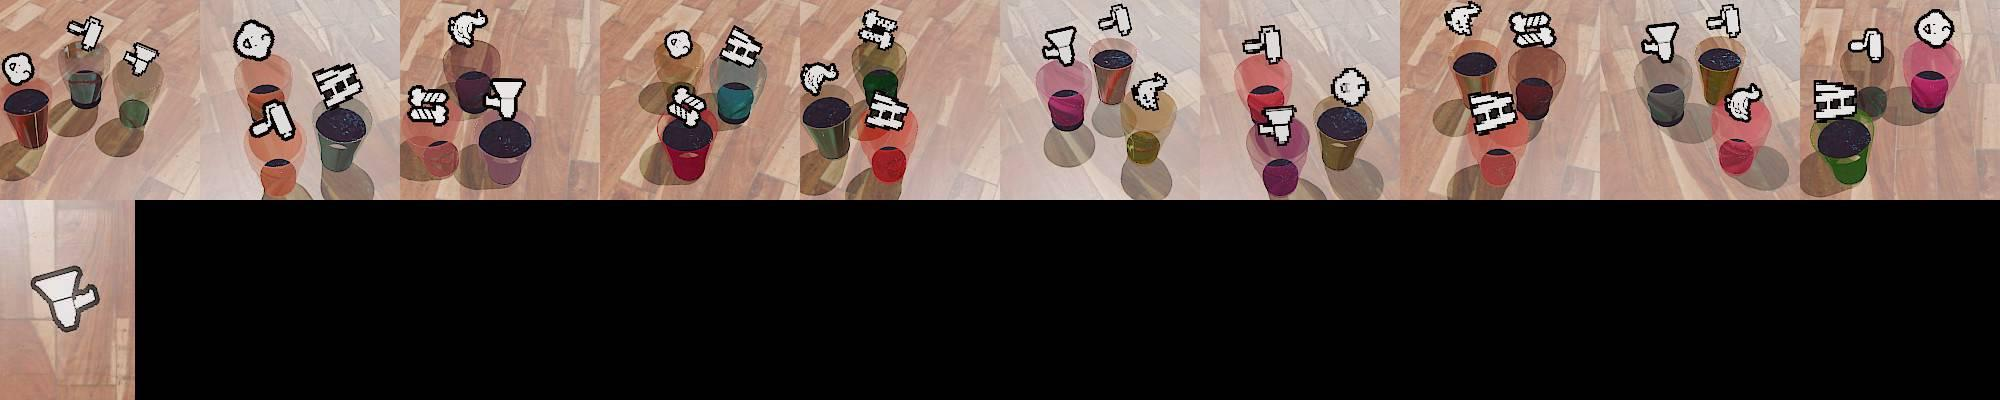icon: (29, 265, 101, 333), (311, 63, 363, 111), (1467, 89, 1519, 136), (248, 95, 297, 139), (1811, 78, 1859, 122), (719, 24, 764, 69), (1508, 10, 1557, 49), (406, 84, 451, 126), (864, 89, 910, 130), (665, 84, 708, 126), (484, 77, 526, 120), (855, 9, 899, 50), (233, 19, 275, 61), (1914, 8, 1955, 49), (447, 9, 488, 49), (1641, 21, 1680, 63), (1331, 66, 1370, 108), (1255, 102, 1295, 142), (1130, 71, 1169, 111), (1243, 24, 1282, 64), (1724, 84, 1762, 122), (800, 61, 840, 97), (1042, 25, 1077, 66), (68, 15, 105, 53), (1847, 26, 1884, 64), (1444, 2, 1482, 38), (125, 42, 160, 78), (1705, 3, 1741, 38), (1097, 3, 1132, 37), (2, 52, 35, 87), (663, 29, 693, 59)
